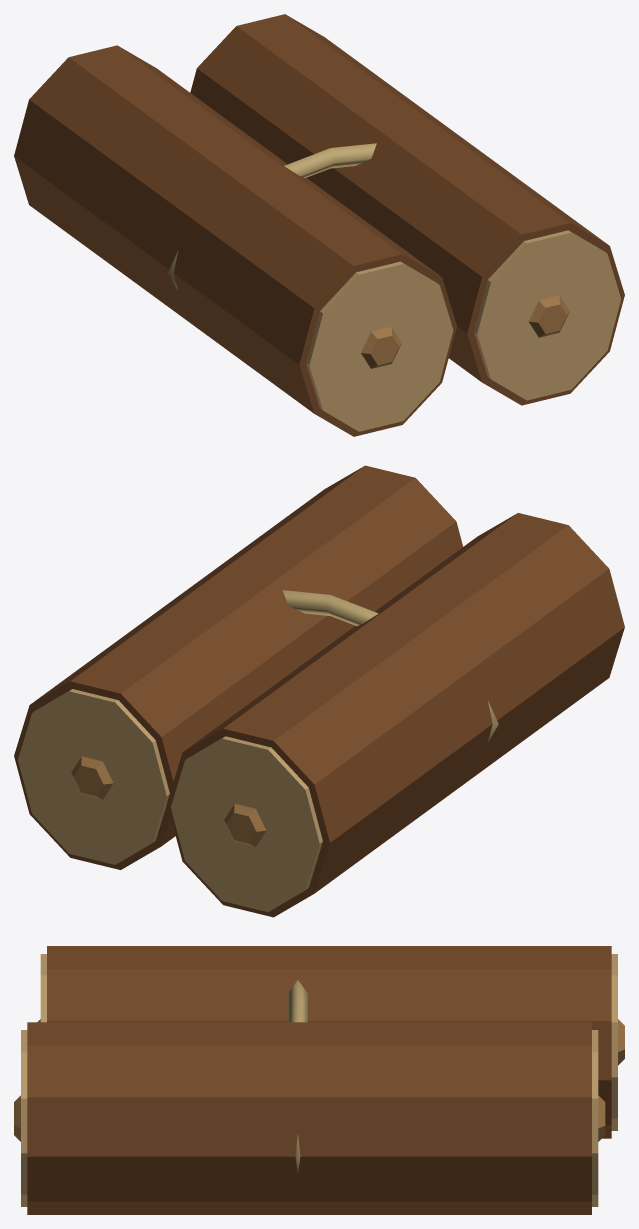
The model's file is pile-wood-2.gltf.
3 views of the same model, one above another, from view 1: azimuth 30°, elevation 25°; view 2: azimuth 150°, elevation 25°; view 3: azimuth 270°, elevation 25° (orthographic). The views are drawn at different scales.
Parts seen in each view (by area): view 1: pile-wood-2; view 2: pile-wood-2; view 3: pile-wood-2.
Part boxes in pixels (x1,y1,x2,y2): pile-wood-2: (14, 14, 624, 436); pile-wood-2: (14, 465, 624, 917); pile-wood-2: (14, 946, 624, 1214).
Bounding box in the file's own units: 0.4738 × 0.2378 × 0.779.
